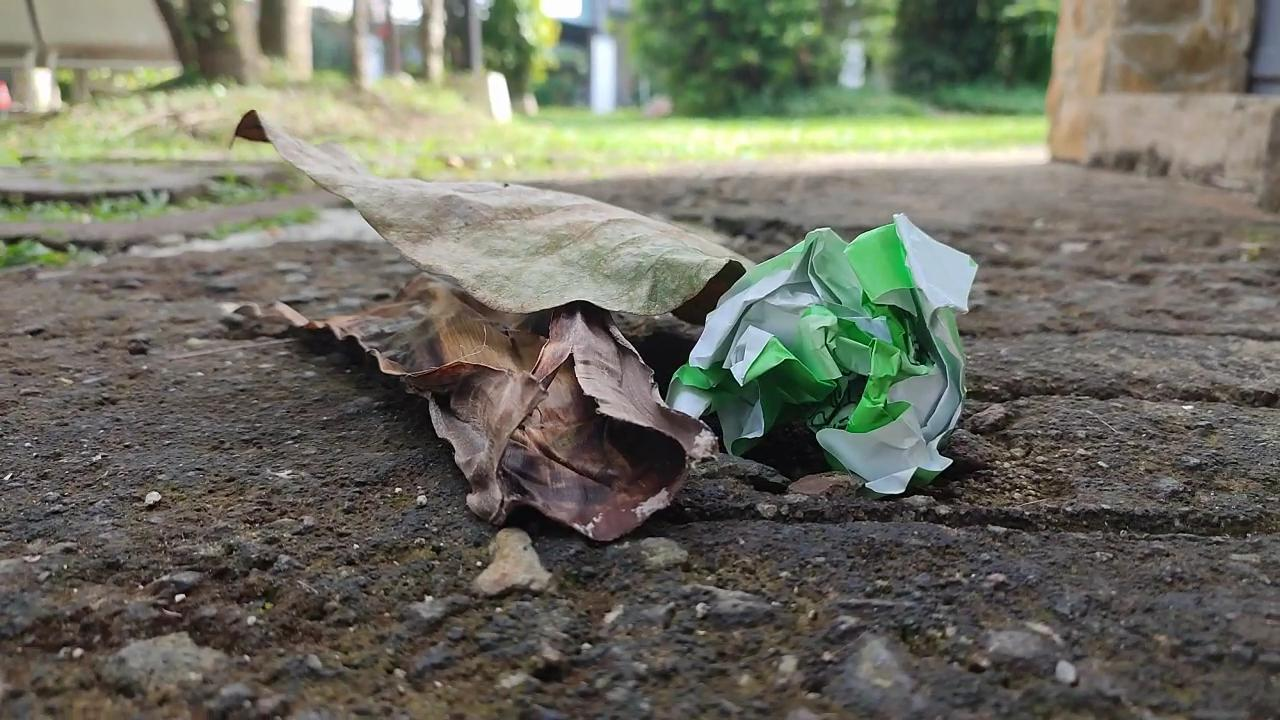Paper: (656, 192, 981, 506)
